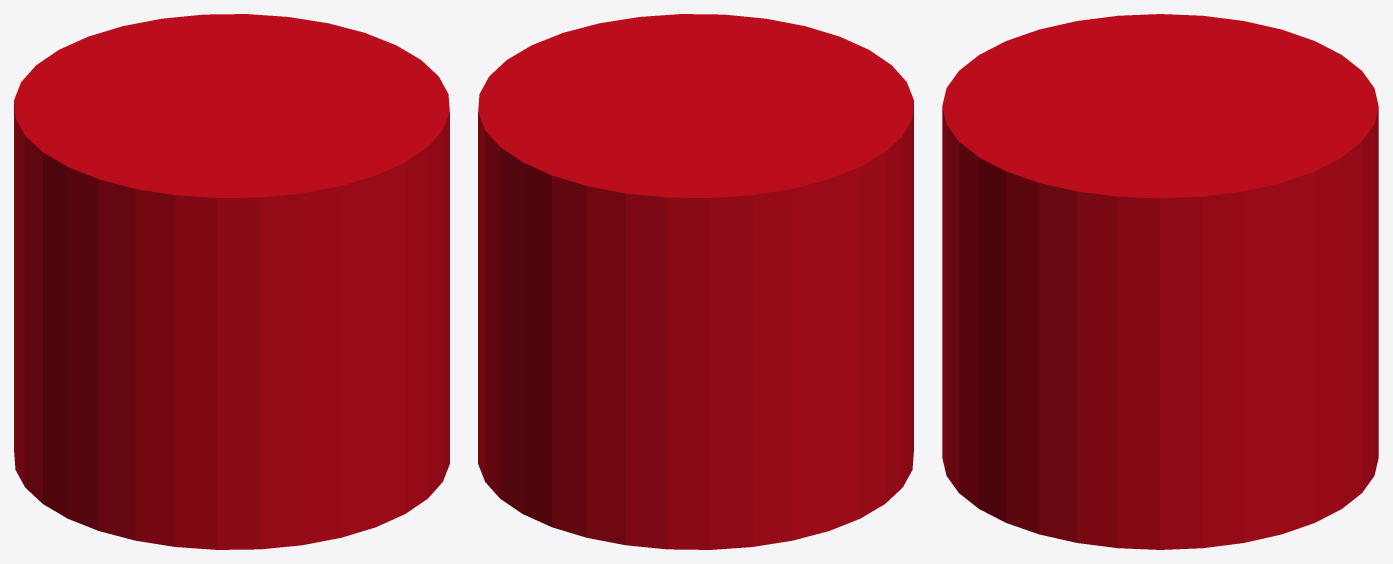
The model's file is red_cup_8_9_9.dae.
The picture shows the model from 3 angles, left to right: view 1: azimuth 30°, elevation 25°; view 2: azimuth 150°, elevation 25°; view 3: azimuth 270°, elevation 25°; orthographic projection.
Visible parts, largest first — view 1: Cylinder; view 2: Cylinder; view 3: Cylinder.
Part boxes in pixels (bbox=[...]): Cylinder: bbox=[14, 14, 449, 549]; Cylinder: bbox=[478, 14, 913, 549]; Cylinder: bbox=[942, 14, 1378, 549].
Bounding box in the file's own units: 0.09 × 0.09 × 0.08.
